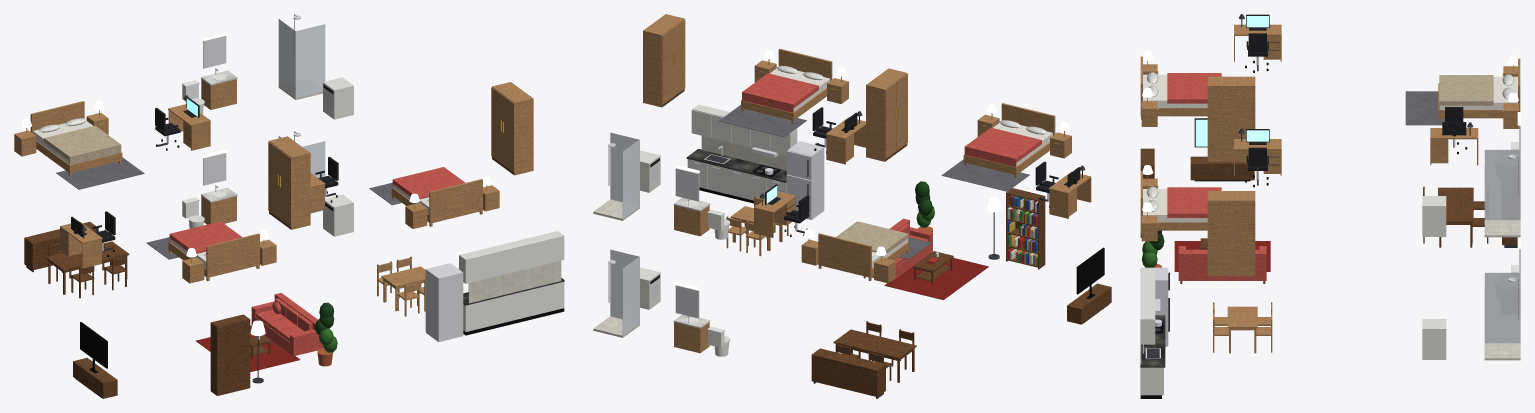
The model's file is i_tuscan_farmhouse.gltf.
3 views of the same model, side by side, from view 1: azimuth 30°, elevation 25°; view 2: azimuth 150°, elevation 25°; view 3: azimuth 270°, elevation 25° (orthographic). The views are drawn at different scales.
Visible parts, largest first — view 1: I_tuscan_farmhouse; view 2: I_tuscan_farmhouse; view 3: I_tuscan_farmhouse.
Part boxes in pixels (x1,y1,x2,y2): I_tuscan_farmhouse: [14, 14, 564, 398]; I_tuscan_farmhouse: [593, 14, 1111, 398]; I_tuscan_farmhouse: [1140, 14, 1520, 398].
Bounding box in the file's own units: 13.32 × 5.5 × 9.52.
32 materials, 11 textured.
